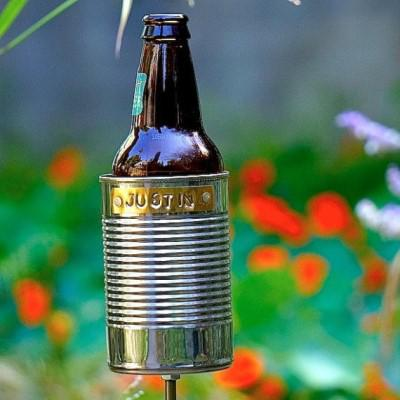beer: (99, 12, 234, 377)
